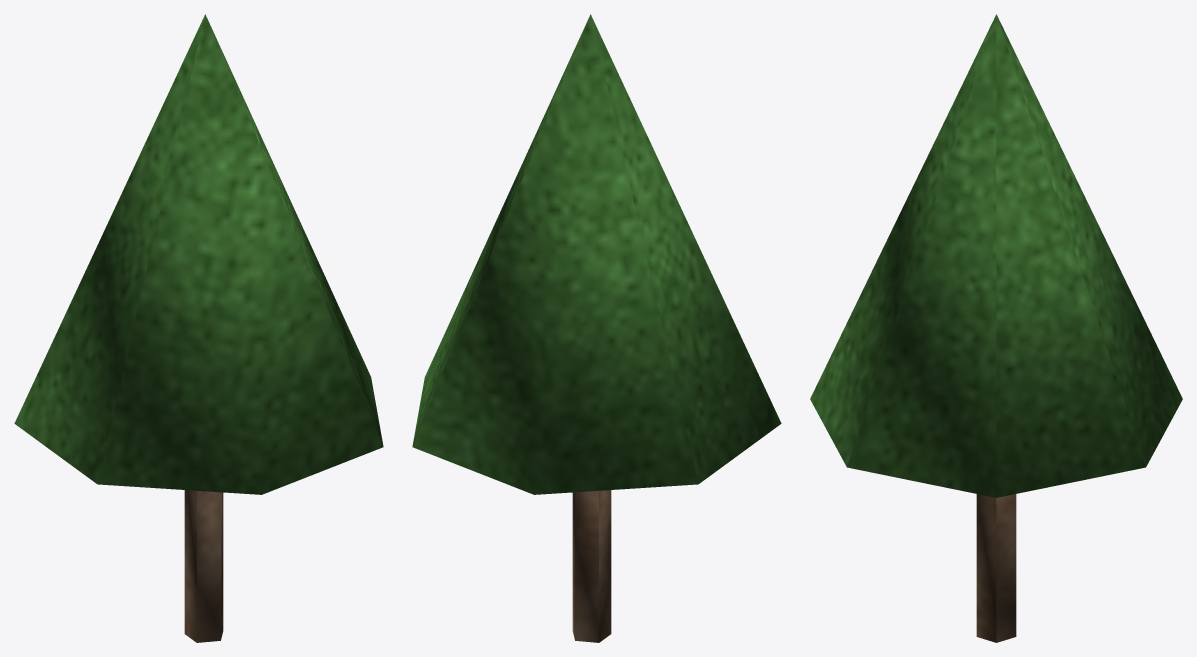
File: ambient_tree_18.glb
The picture shows the model from 3 angles, left to right: view 1: azimuth 30°, elevation 25°; view 2: azimuth 150°, elevation 25°; view 3: azimuth 270°, elevation 25°; orthographic projection.
Visible parts, largest first — view 1: ambient_tree_18; view 2: ambient_tree_18; view 3: ambient_tree_18.
Part boxes in pixels (x1,y1,x2,y2): ambient_tree_18: [14, 14, 383, 642]; ambient_tree_18: [412, 14, 781, 642]; ambient_tree_18: [810, 14, 1182, 642].
Bounding box in the file's own units: 1.05 × 1.97 × 1.07.
Materials: 2 (2 with a texture image).
